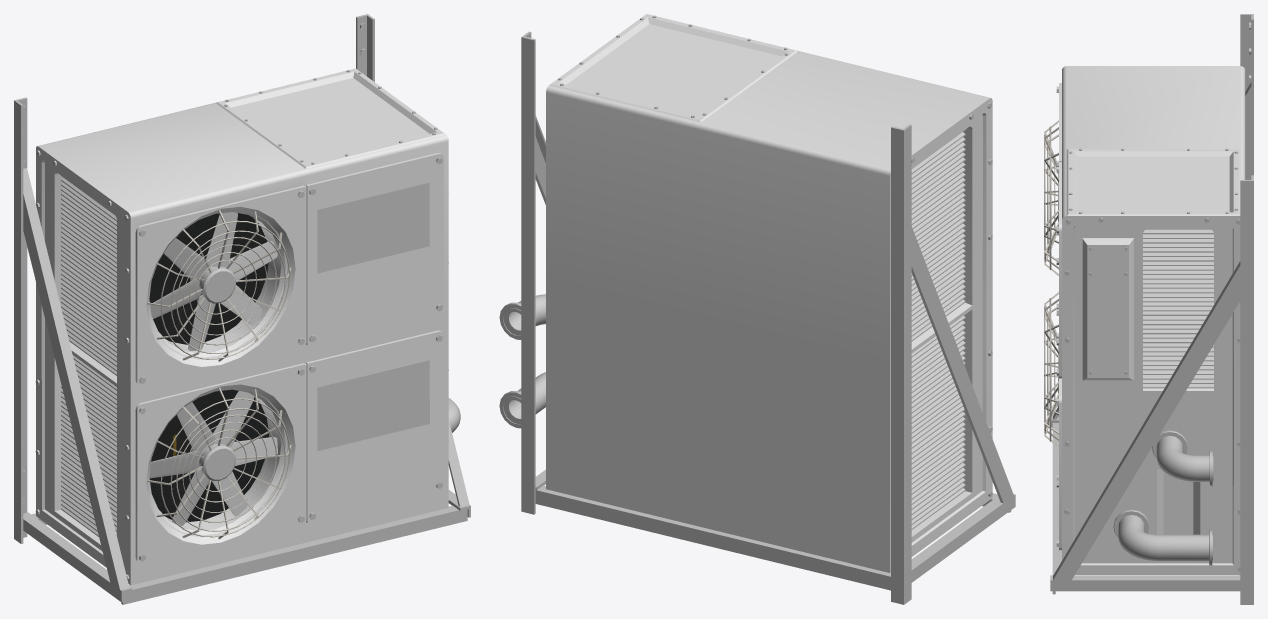
Rendered from KB3D_CBP_ACunit_Q.fbx.
The picture shows the model from 3 angles, left to right: view 1: azimuth 30°, elevation 25°; view 2: azimuth 150°, elevation 25°; view 3: azimuth 270°, elevation 25°; orthographic projection. The views are drawn at different scales.
Visible parts, largest first — view 1: KB3D_CBP_ACunit_Q_Main; view 2: KB3D_CBP_ACunit_Q_Main; view 3: KB3D_CBP_ACunit_Q_Main.
Boxes of the visible parts, box(x1,y1,x2,y2) form: KB3D_CBP_ACunit_Q_Main: box(14, 14, 470, 604); KB3D_CBP_ACunit_Q_Main: box(499, 14, 1015, 604); KB3D_CBP_ACunit_Q_Main: box(1044, 14, 1253, 604).
Bounding box in the file's own units: 171 × 181 × 81.05.
